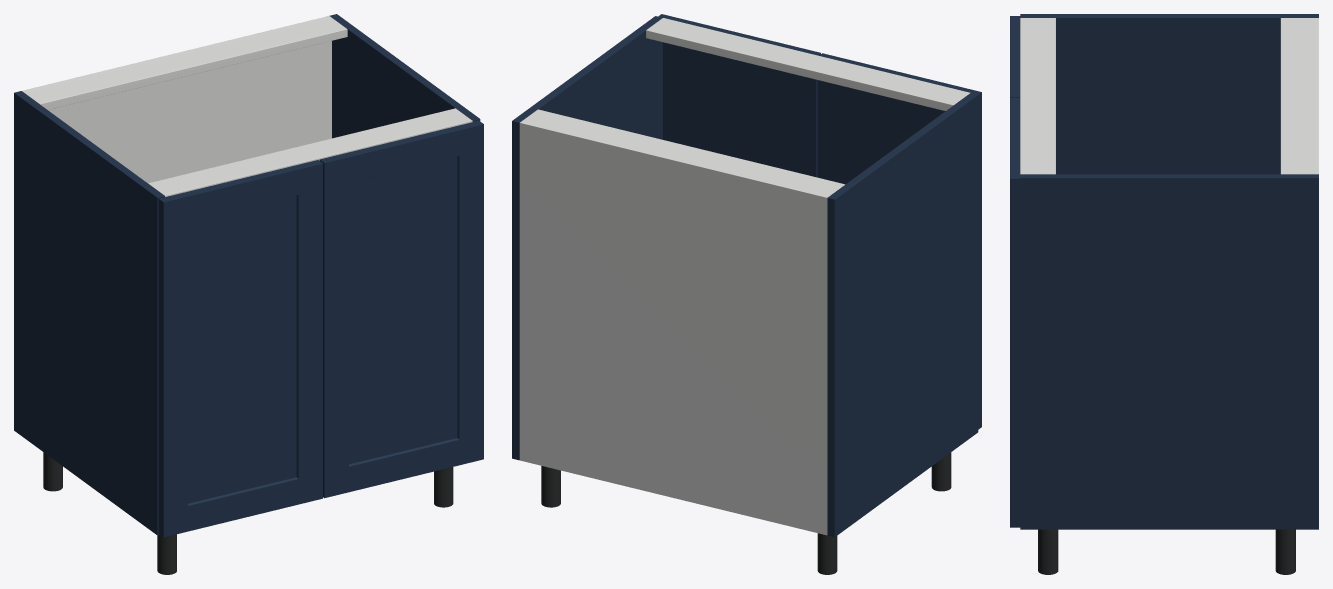
Rendered from oppein-pb-bss-b30fh.glb.
3 renders of one model, left to right at view 1: azimuth 30°, elevation 25°; view 2: azimuth 150°, elevation 25°; view 3: azimuth 270°, elevation 25°, orthographic. The views are drawn at different scales.
Visible parts, largest first — view 1: Door, Door.001, Cabinet side, Cabinet back, Cabinet side.001, Top support rail, Top support rail.001, Adjustable foot.001, Adjustable foot.003, Adjustable foot; view 2: Cabinet back, Cabinet side, Door.001, Cabinet side.001, Door, Top support rail.001, Top support rail, Adjustable foot, Adjustable foot.002, Cabinet bottom, Adjustable foot.001; view 3: Cabinet side.001, Cabinet side, Top support rail.001, Top support rail, Door.001, Adjustable foot.003, Adjustable foot.002, Cabinet back, Door.
Boxes of the visible parts, x1,y1,x2,y2 form: Door: (158, 160, 322, 537); Door.001: (319, 120, 483, 498); Cabinet side: (14, 91, 164, 535); Cabinet back: (22, 16, 331, 183); Cabinet side.001: (329, 14, 480, 138); Top support rail: (23, 17, 347, 109); Top support rail.001: (148, 108, 472, 196); Adjustable foot.001: (157, 534, 176, 574); Adjustable foot.003: (434, 467, 453, 507); Adjustable foot: (43, 452, 62, 491); Cabinet back: (519, 120, 829, 534); Cabinet side: (827, 93, 978, 537); Door.001: (658, 14, 820, 177); Cabinet side.001: (512, 16, 662, 460); Door: (817, 53, 981, 429); Top support rail.001: (646, 18, 969, 110); Top support rail: (523, 109, 844, 195); Adjustable foot: (817, 533, 837, 574); Adjustable foot.002: (541, 466, 560, 507); Cabinet bottom: (519, 456, 826, 535); Adjustable foot.001: (931, 452, 951, 491); Cabinet side.001: (1020, 174, 1318, 529); Cabinet side: (1020, 14, 1318, 174); Top support rail.001: (1020, 18, 1055, 174); Top support rail: (1280, 18, 1315, 174); Door.001: (1010, 97, 1020, 527); Adjustable foot.003: (1038, 529, 1058, 574); Adjustable foot.002: (1275, 529, 1295, 574); Cabinet back: (1313, 18, 1318, 174); Door: (1010, 16, 1020, 97).
Bounding box in the file's own units: 0.762 × 0.8763 × 0.6064.
